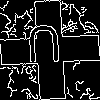U: (25, 25, 63, 73)
